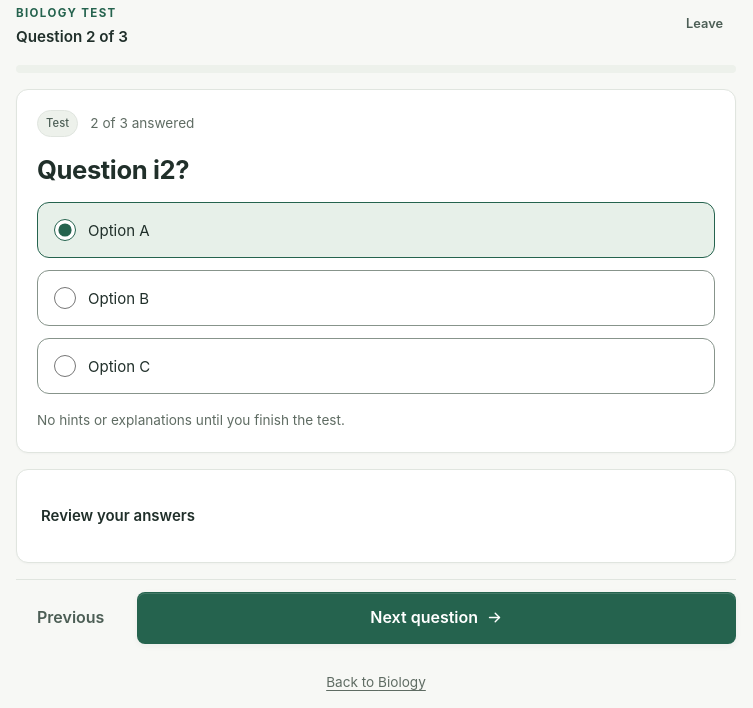
Scenario: test session › resumes at the saved position with the saved answers
Expected: the heading "Question i2?" is shown, x1=37 y1=154 x2=189 y2=185
Expected: the text "Question 2 of 3" is shown, x1=16 y1=27 x2=128 y2=46
Click the button "Previous": (71, 618) x1=16 y1=592 x2=125 y2=644
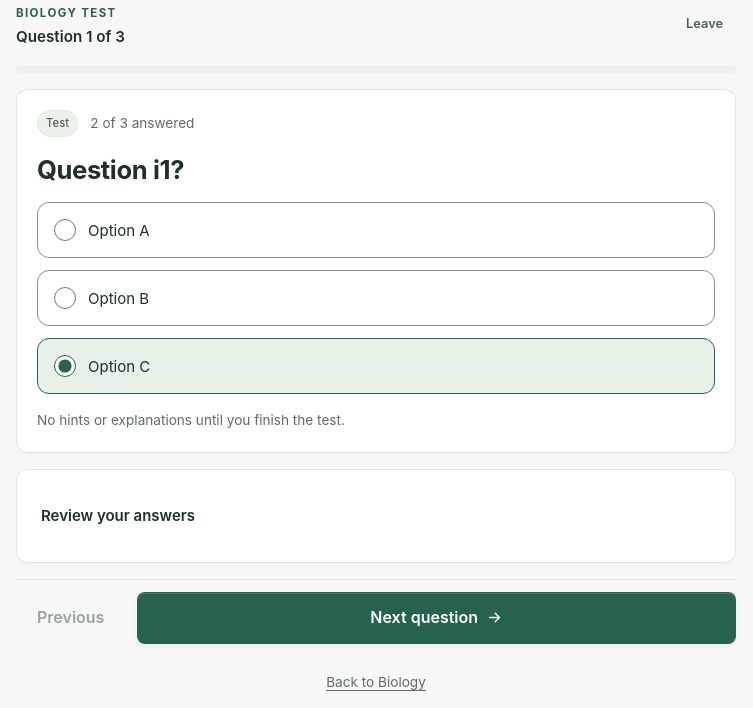
Expected: the radio button labelled "Option C" is checked, x1=54 y1=355 x2=76 y2=377
